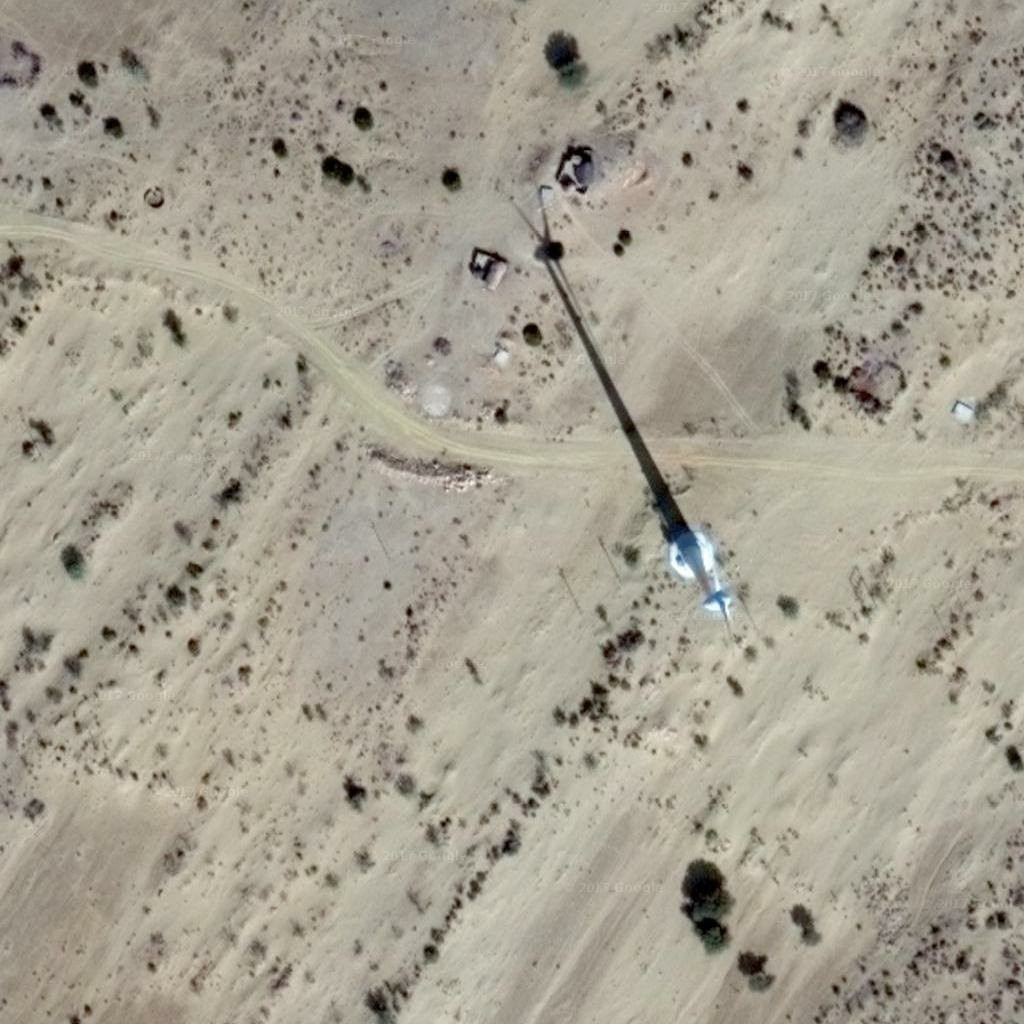Windmill: (512, 197, 701, 548)
